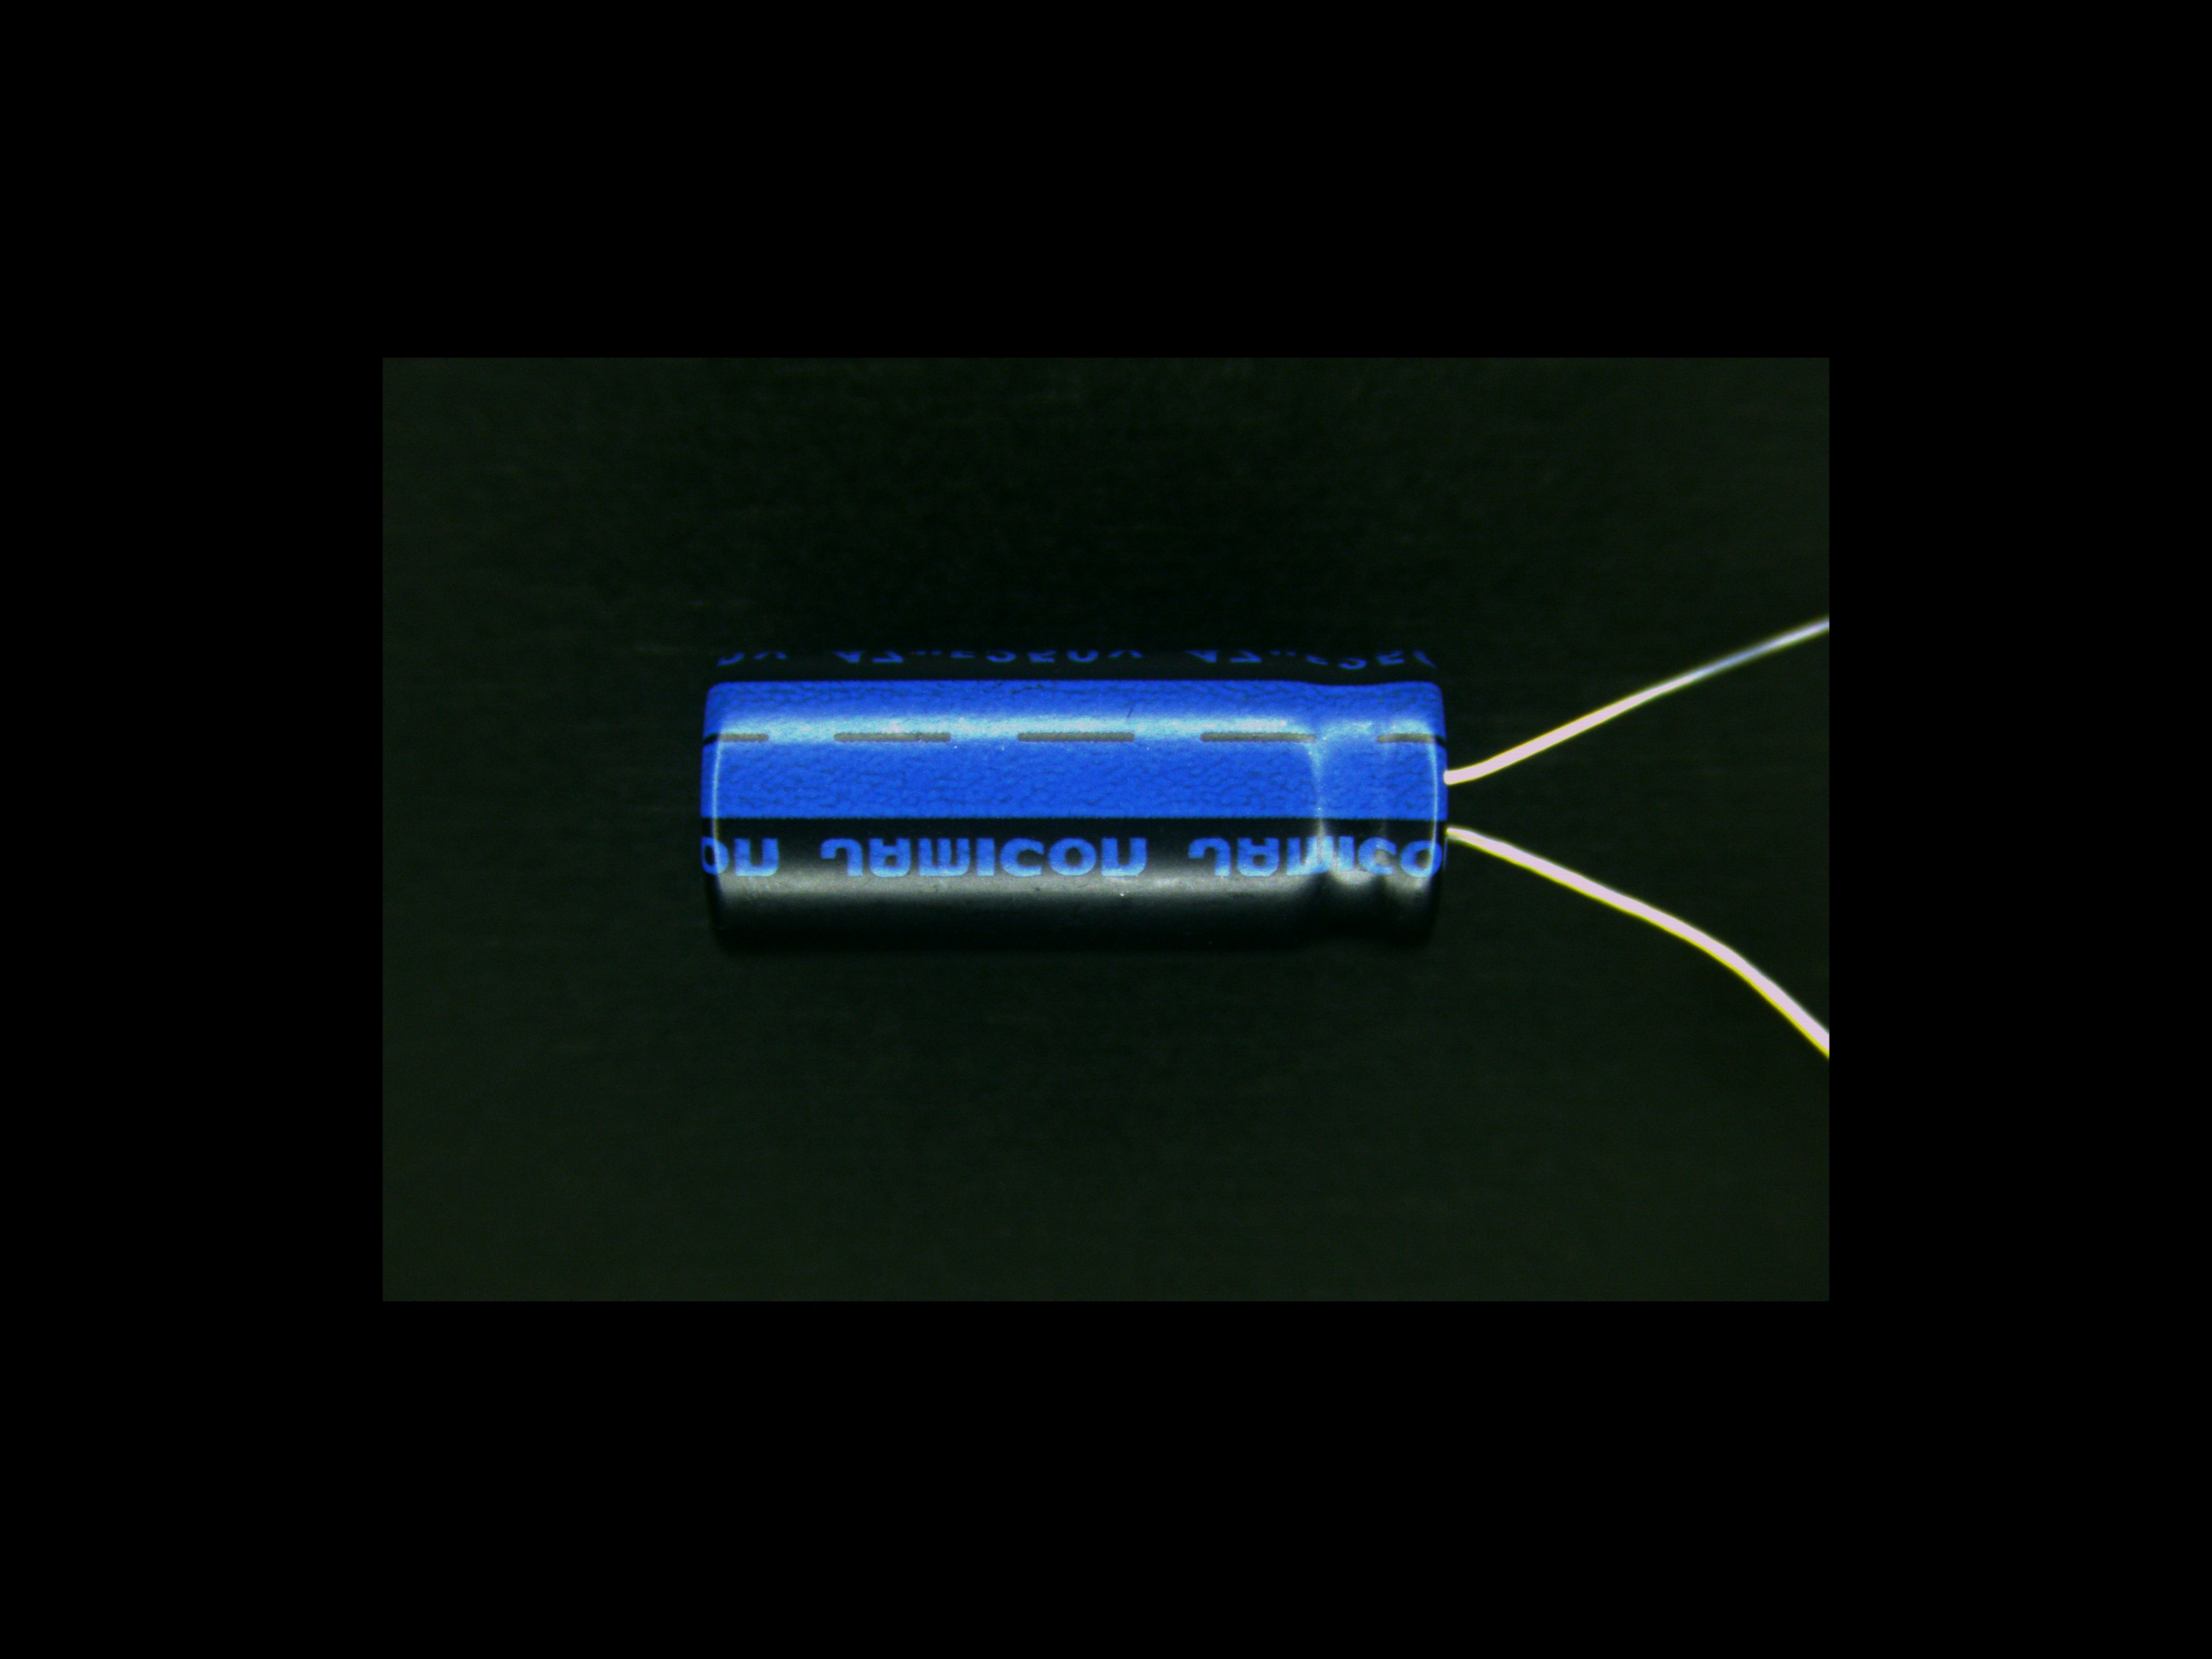c2: (695, 640, 1585, 951)
